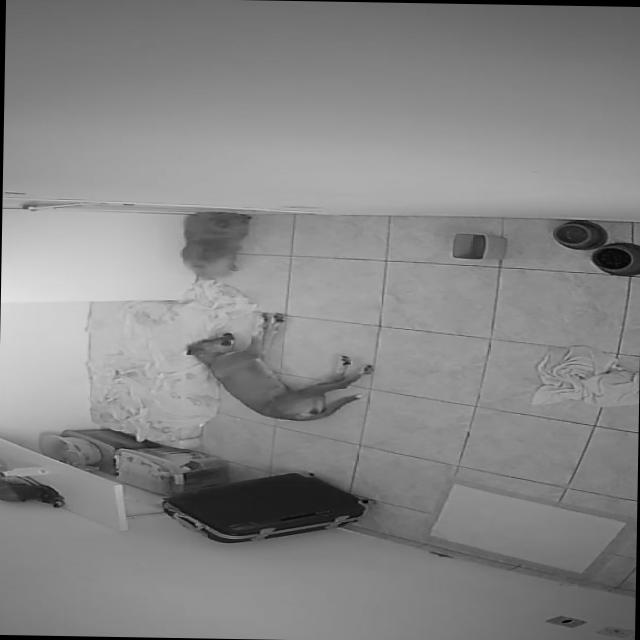laying down: (179, 304, 380, 426), (171, 208, 257, 282)
